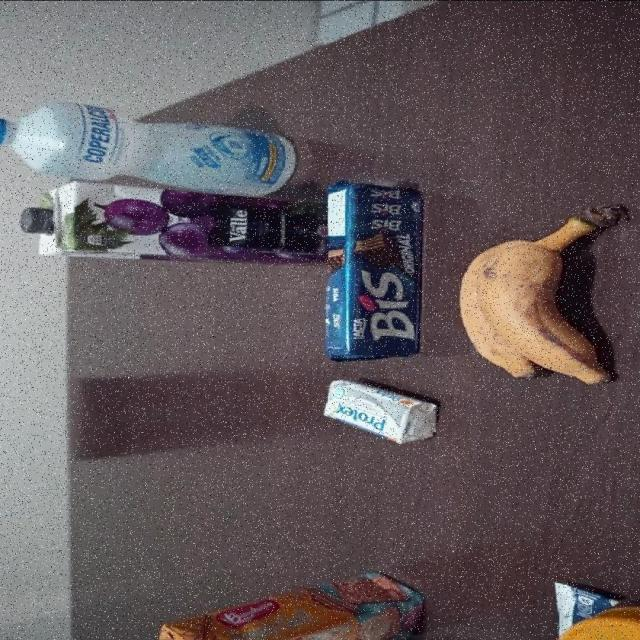AlcoholBottle: (0, 100, 303, 199)
Banana: (458, 202, 628, 384)
ChocolatePowder: (548, 585, 640, 639)
Cracker: (145, 569, 424, 640)
Popcorn: (545, 570, 621, 637)
Soap: (321, 378, 439, 444)
